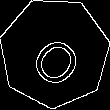O_NE: (22, 19, 87, 86)
